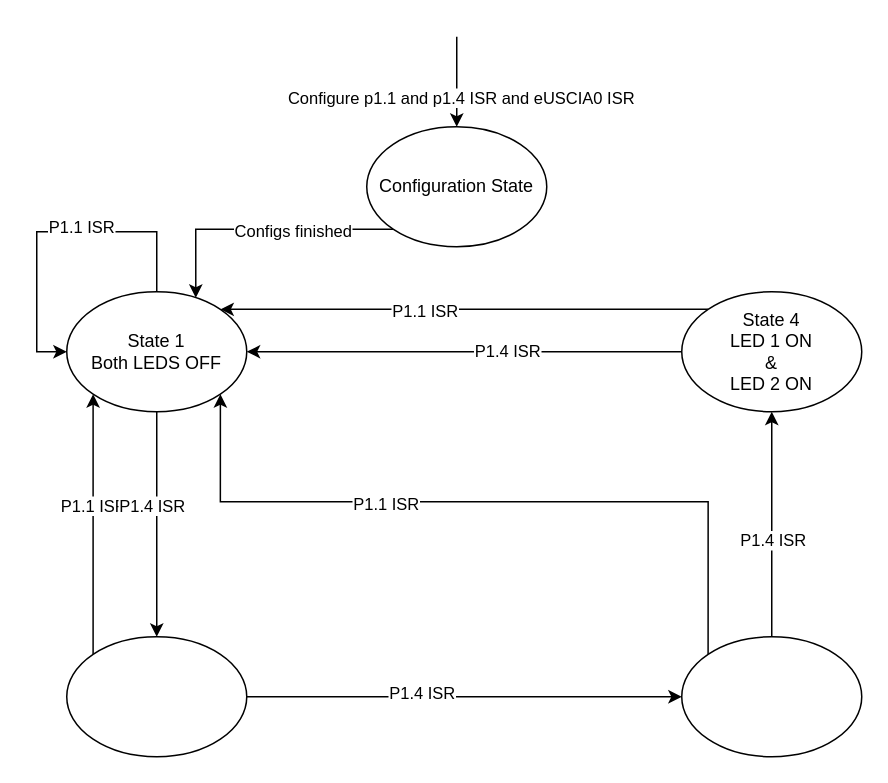
Image size: 888x783. Some labels were removed from this diagram. The shapes that lost their labels are listed below. From the top down, each one's centre as x and y in pixels, then its label:
(x=156, y=696): State 2 LED 1 ON & LED 2 OFF
(x=771, y=696): State 3 LED 1 OFF & LED 2 ON
